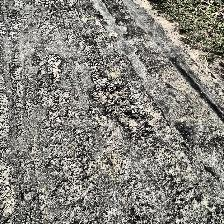pothole: (88, 85, 150, 138), (46, 53, 62, 77)
